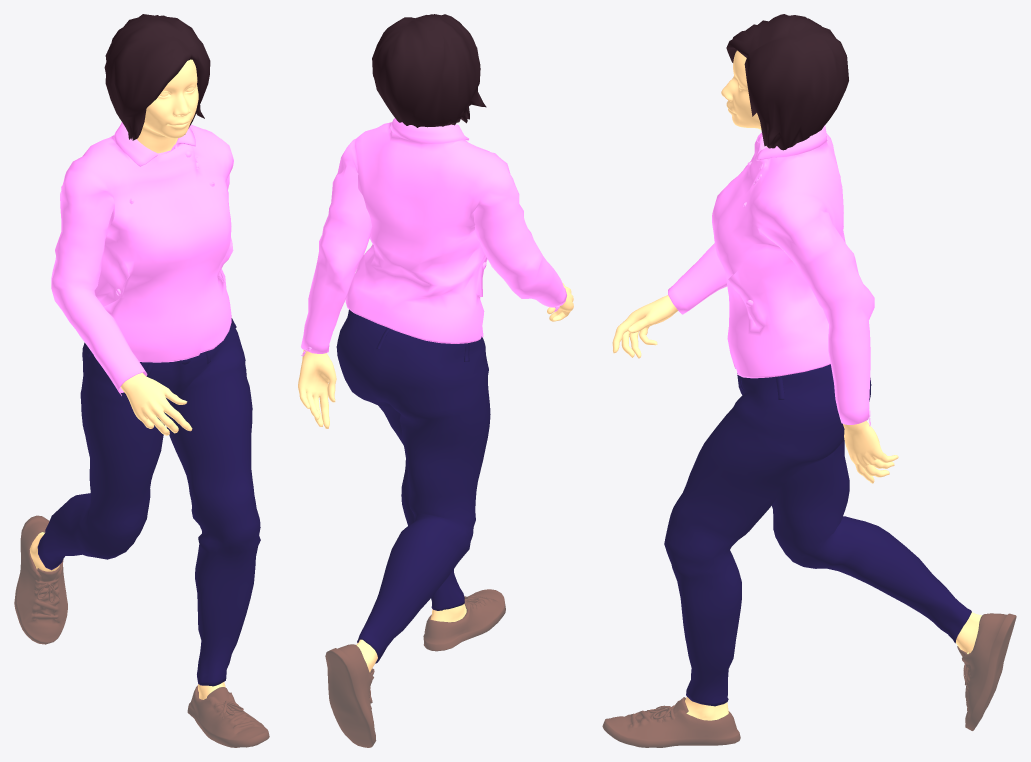
Rendered from Woman_06_Walking-transformed.glb.
The picture shows the model from 3 angles, left to right: view 1: azimuth 30°, elevation 25°; view 2: azimuth 150°, elevation 25°; view 3: azimuth 270°, elevation 25°; orthographic projection. The views are drawn at different scales.
Parts seen in each view (by area): view 1: Tops.002, Bottoms.002, Hair.002, Shoes.002, Body.002; view 2: Tops.002, Bottoms.002, Hair.002, Shoes.002, Body.002; view 3: Bottoms.002, Tops.002, Hair.002, Shoes.002, Body.002.
Part boxes in pixels (<box>): Tops.002: <box>51,122,233,395</box>; Bottoms.002: <box>37,318,260,686</box>; Hair.002: <box>104,14,210,140</box>; Shoes.002: <box>14,515,269,747</box>; Body.002: <box>29,59,225,699</box>; Tops.002: <box>301,118,566,356</box>; Bottoms.002: <box>336,309,490,663</box>; Hair.002: <box>372,14,486,127</box>; Shoes.002: <box>325,589,505,747</box>; Body.002: <box>298,283,573,672</box>; Bottoms.002: <box>664,364,971,706</box>; Tops.002: <box>668,125,874,426</box>; Hair.002: <box>726,14,848,150</box>; Shoes.002: <box>602,613,1016,747</box>; Body.002: <box>612,50,981,720</box>.
Size of the model in its own units: 0.5142 by 1.64 by 0.8536.
